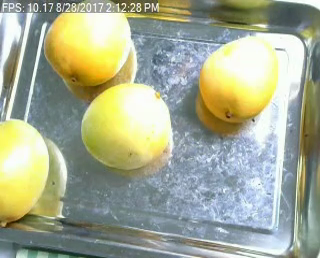Mango: (79, 81, 171, 168), (43, 1, 130, 86), (198, 38, 279, 120), (0, 117, 50, 226)
